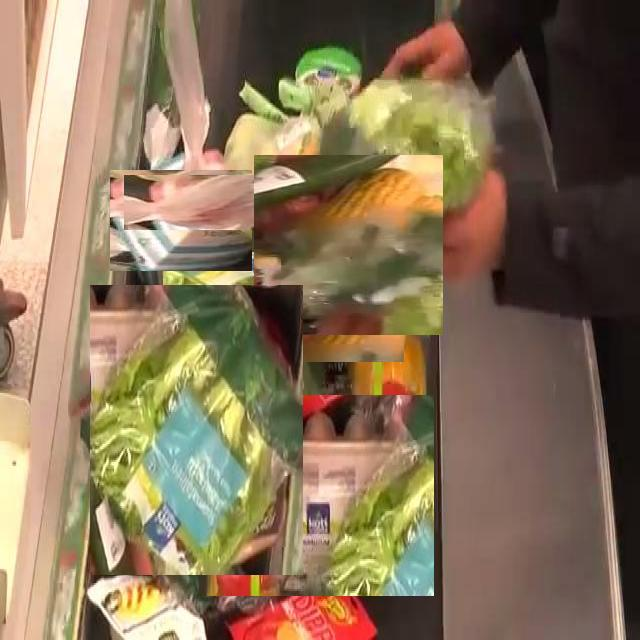food-box: (90, 284, 304, 575), (198, 394, 434, 596), (255, 153, 440, 338)
utility-box: (120, 160, 242, 282)
vegetable: (274, 69, 496, 217), (195, 220, 371, 396), (149, 149, 256, 256)
